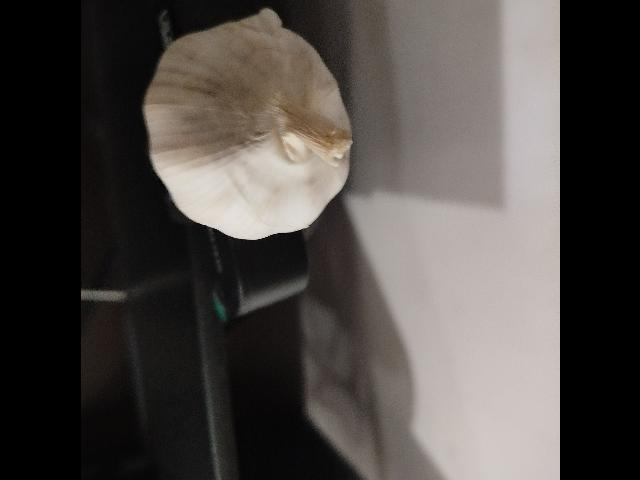garlic: (142, 8, 352, 241)
